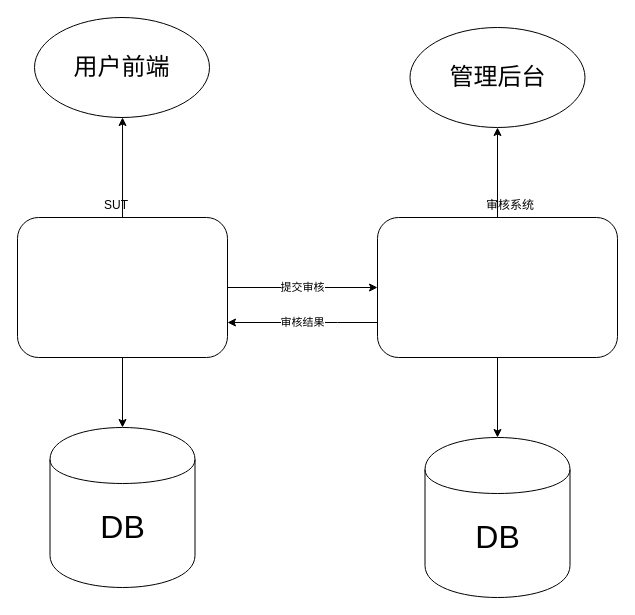
The diagram is 635 pixels wide and 615 high, and some of its shapes have lost their labels. The centre of each missing label's shape, as x and y in pixels:
HIPPO: point 497,287
SEAL: point 122,287
